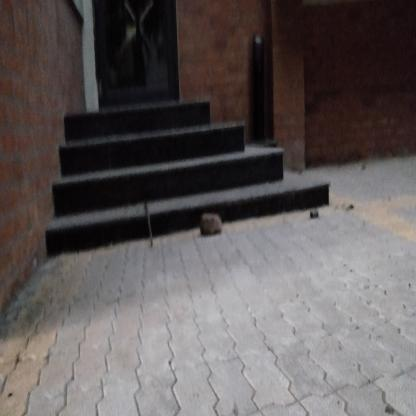stairs: (76, 124, 237, 263)
